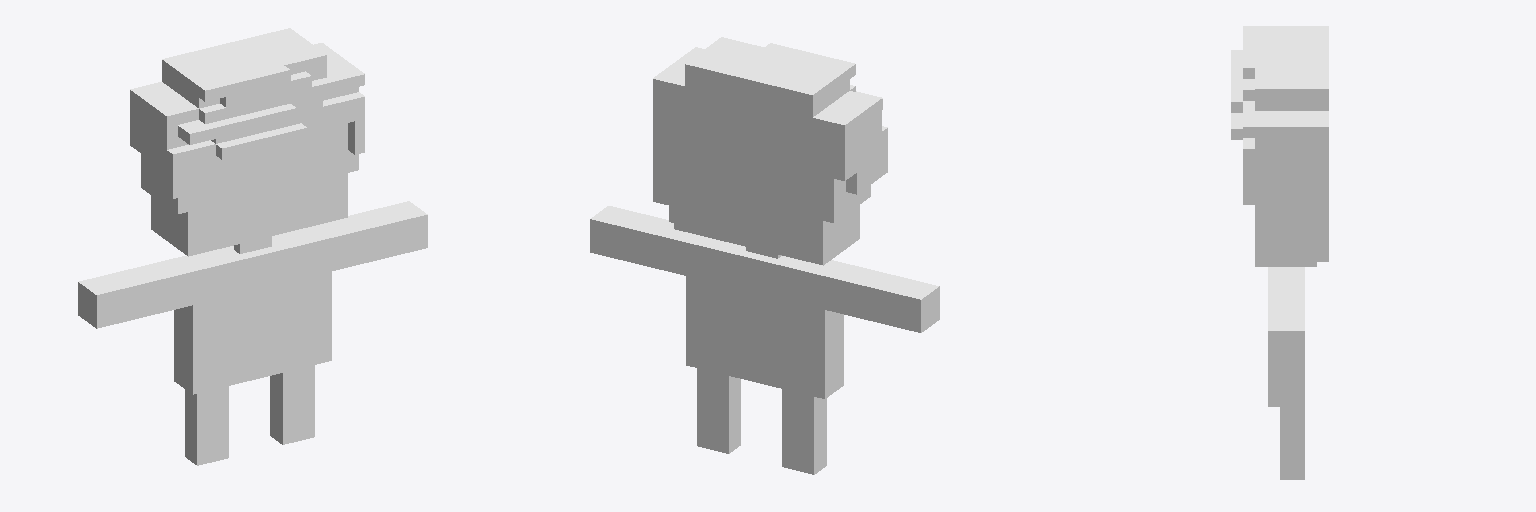
File: Kid1.obj
The picture shows the model from 3 angles: view 1: azimuth 30°, elevation 25°; view 2: azimuth 150°, elevation 25°; view 3: azimuth 270°, elevation 25°; orthographic projection.
Parts seen in each view (by area): view 1: Kid1; view 2: Kid1; view 3: Kid1.
Part boxes in pixels (left/top/right/bottom): Kid1: left=78, top=28, right=427, bottom=465; Kid1: left=590, top=37, right=939, bottom=474; Kid1: left=1231, top=26, right=1328, bottom=479.
Bounding box in the file's own units: 31 × 35 × 8.